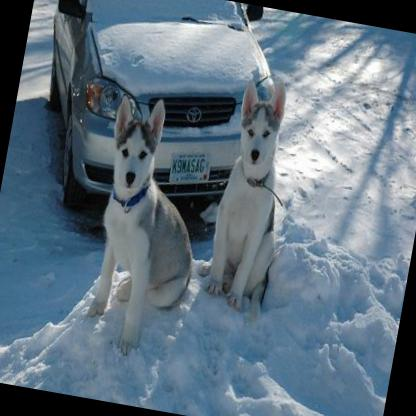Siberian_husky: (74, 88, 218, 362), (192, 70, 302, 308)
